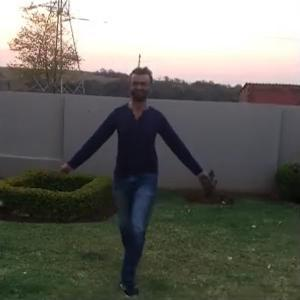land: (31, 55, 232, 287)
